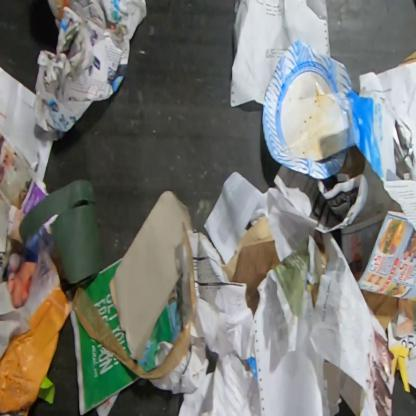cardboard: (108, 189, 195, 360), (261, 37, 356, 180), (18, 176, 106, 286), (228, 239, 281, 318), (220, 215, 273, 282), (386, 314, 415, 394), (360, 289, 399, 332), (338, 146, 366, 180), (397, 50, 415, 66)
soft_plastic: (70, 222, 196, 380), (0, 282, 73, 415), (346, 89, 385, 179), (6, 260, 38, 308)
